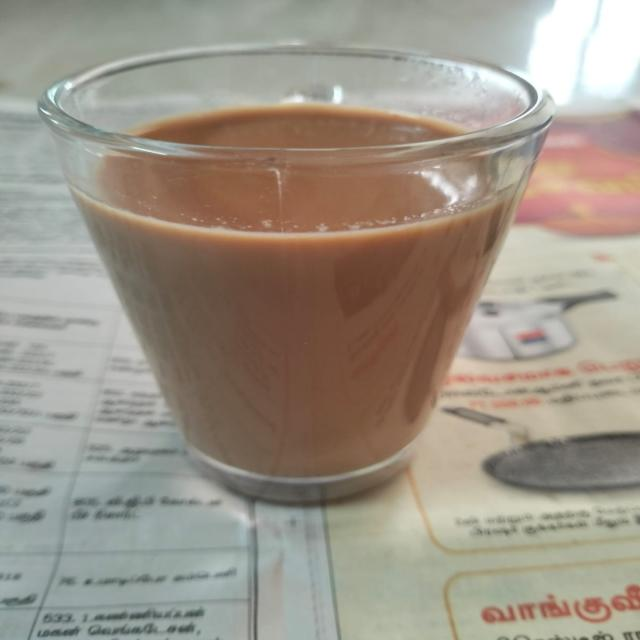glass-VX4N: (35, 44, 556, 506)
